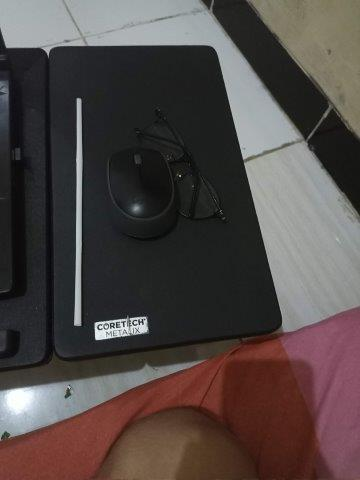sedotan: (73, 98, 82, 326)
